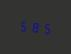eight: (30, 19, 40, 34)
five: (18, 18, 28, 33), (41, 20, 51, 35)
